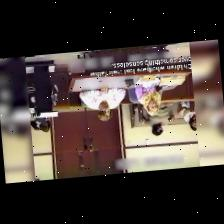person: (79, 88, 124, 120), (144, 102, 173, 134), (134, 85, 160, 115), (180, 100, 196, 130), (36, 118, 52, 134), (29, 120, 38, 129)
